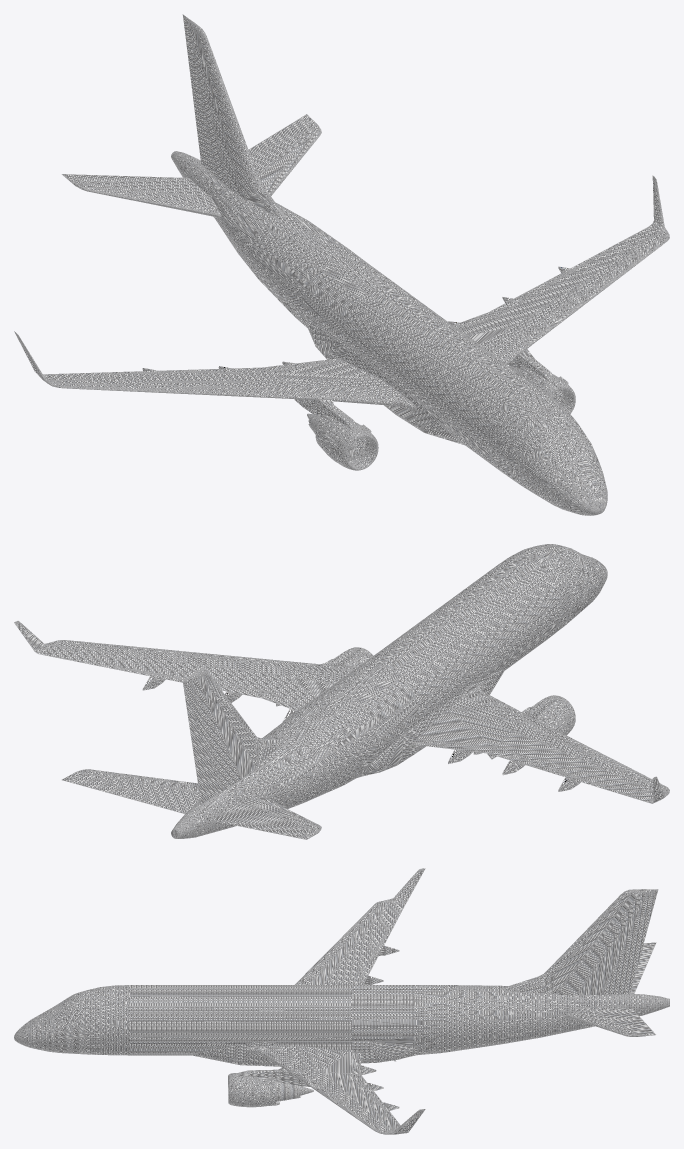
Rendered from RFSL_Embraer_E170_MSFS_LOD1.gltf.
3 views of the same model, one above another, from view 1: azimuth 30°, elevation 25°; view 2: azimuth 150°, elevation 25°; view 3: azimuth 270°, elevation 25° (orthographic). The views are drawn at different scales.
Parts seen in each view (by area): view 1: node3; view 2: node3; view 3: node3.
Part boxes in pixels (x1,y1,x2,y2): node3: (14, 14, 669, 515); node3: (14, 544, 669, 839); node3: (14, 868, 669, 1134).
Size of the model in its own units: 25.98 by 9.02 by 29.89.
